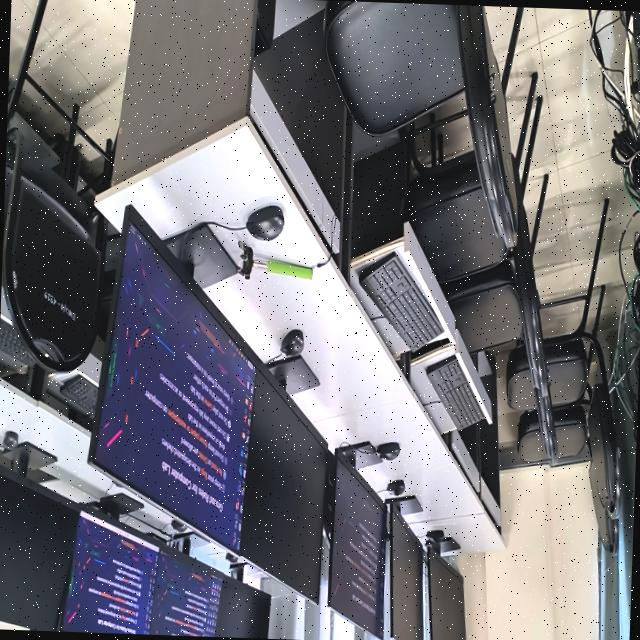Chair: (324, 0, 516, 247), (2, 0, 100, 371), (399, 113, 512, 281), (510, 73, 557, 462), (544, 285, 617, 501), (441, 254, 523, 352), (543, 316, 594, 406), (553, 405, 588, 463), (506, 340, 533, 408), (501, 7, 523, 88), (517, 411, 547, 464)
Keyboard: (360, 253, 442, 349), (426, 356, 484, 429), (60, 375, 97, 416), (0, 319, 33, 363)
Monitor: (89, 206, 257, 552), (239, 367, 329, 602), (0, 464, 82, 631), (60, 512, 159, 634), (328, 449, 386, 638), (149, 548, 224, 637), (386, 499, 423, 640), (425, 531, 465, 640), (215, 572, 271, 638)
Mouse: (246, 206, 284, 240), (281, 329, 304, 356), (226, 553, 247, 582), (377, 443, 400, 461), (2, 431, 18, 452), (386, 480, 405, 496), (171, 520, 187, 539), (426, 530, 444, 545)
